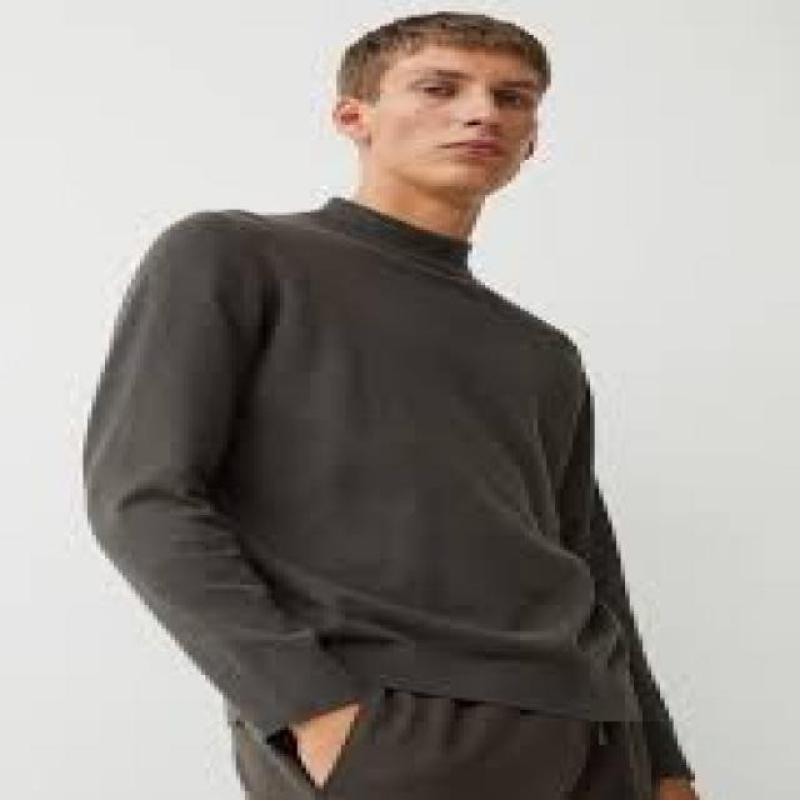short sleeve shirt: (77, 194, 696, 780)
